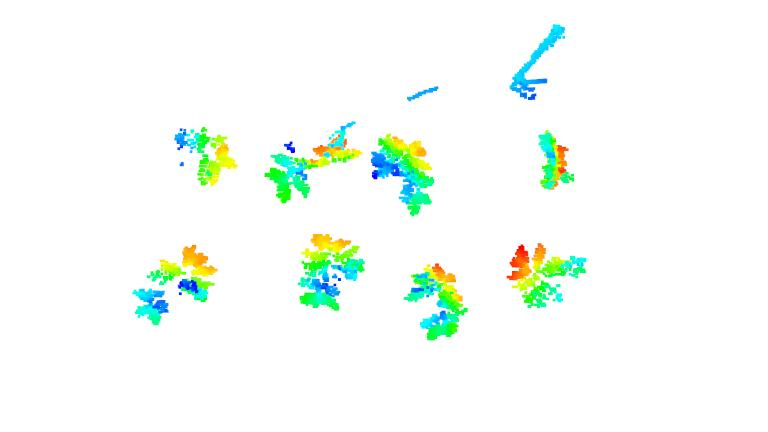chickpea: (263, 131, 359, 204), (130, 246, 216, 324), (298, 232, 365, 315), (371, 132, 435, 216), (508, 241, 584, 311), (406, 265, 465, 340), (174, 128, 239, 188), (534, 130, 578, 192)
